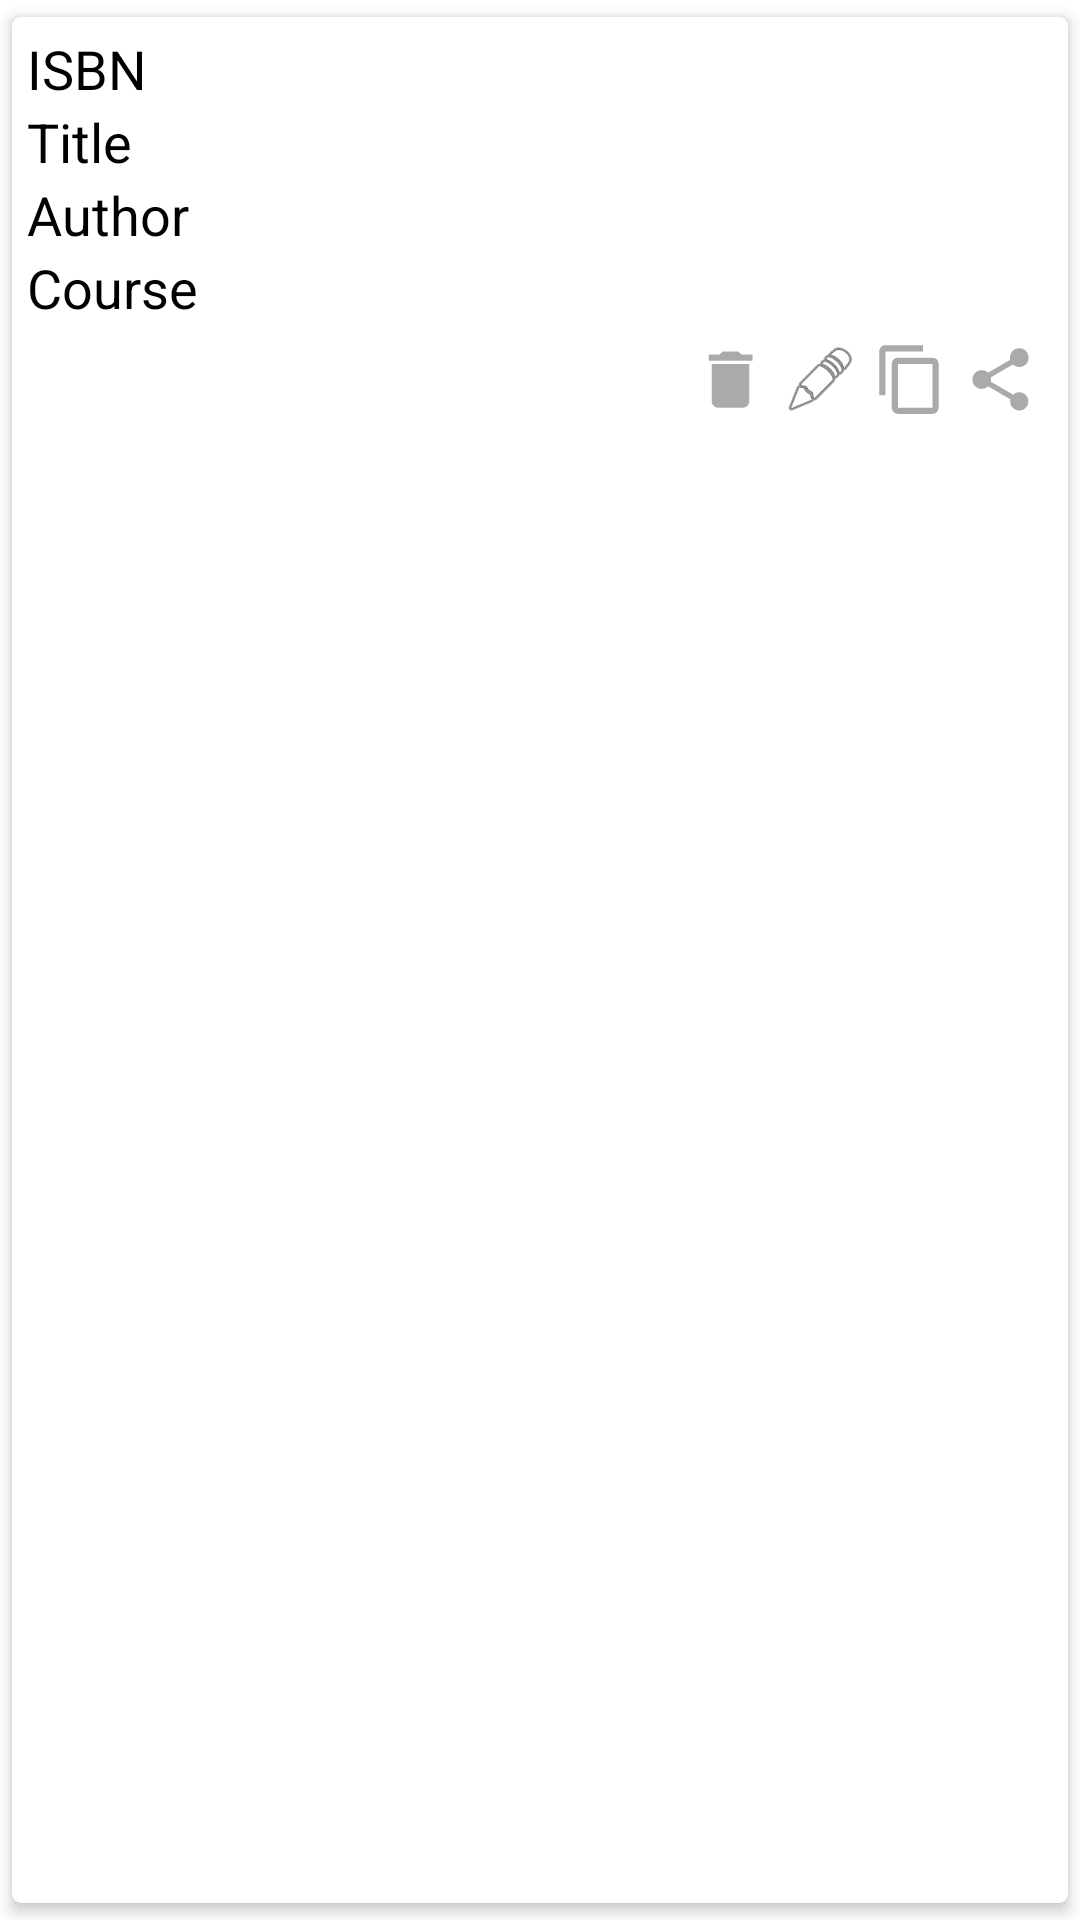

Icon bounding boxes for this 1080w x 1920h phone screenshot, format (x1, y1, x2, y2):
delete: (709, 351, 753, 408)
edit: (788, 347, 852, 411)
share: (972, 348, 1029, 411)
